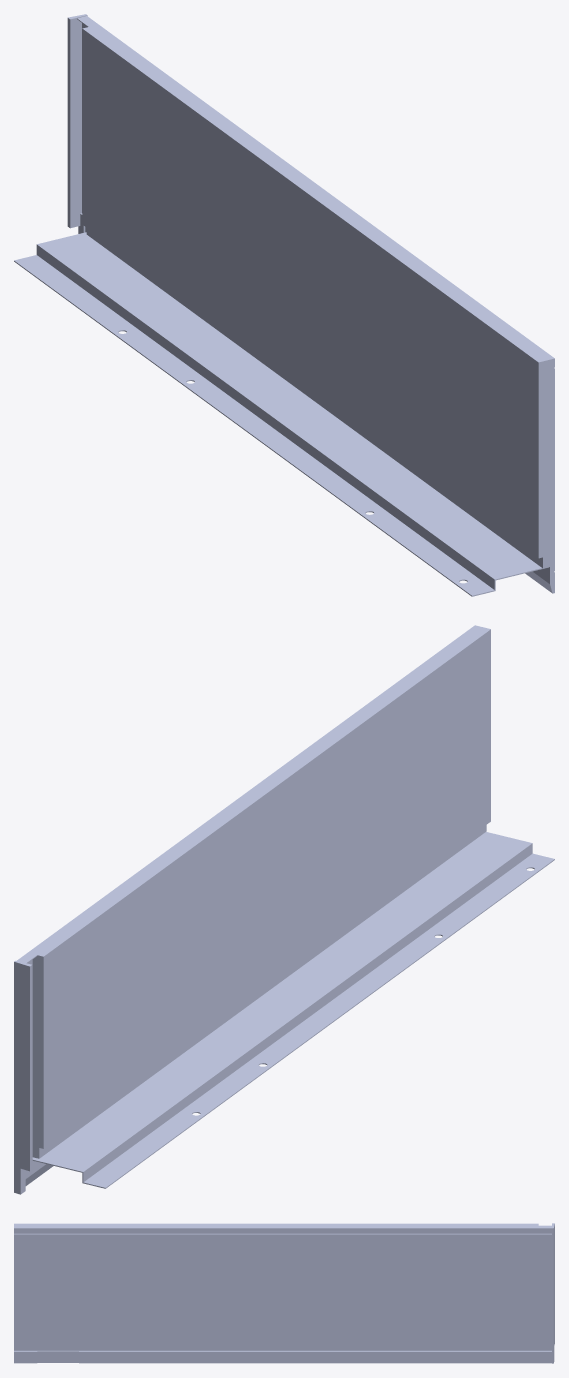
File: lg-kava-C650-m.glb
3 views of the same model, one above another, from view 1: azimuth 30°, elevation 25°; view 2: azimuth 150°, elevation 25°; view 3: azimuth 270°, elevation 25° (orthographic). The views are drawn at different scales.
Parts seen in each view (by area): view 1: 49467764; view 2: 49467764; view 3: 49467764.
Boxes of the visible parts, x1,y1,x2,y2 form: 49467764: (14, 14, 554, 596); 49467764: (14, 625, 554, 1194); 49467764: (14, 1223, 554, 1363).
Bounding box in the file's own units: 0.0653 × 0.1777 × 0.6435.
